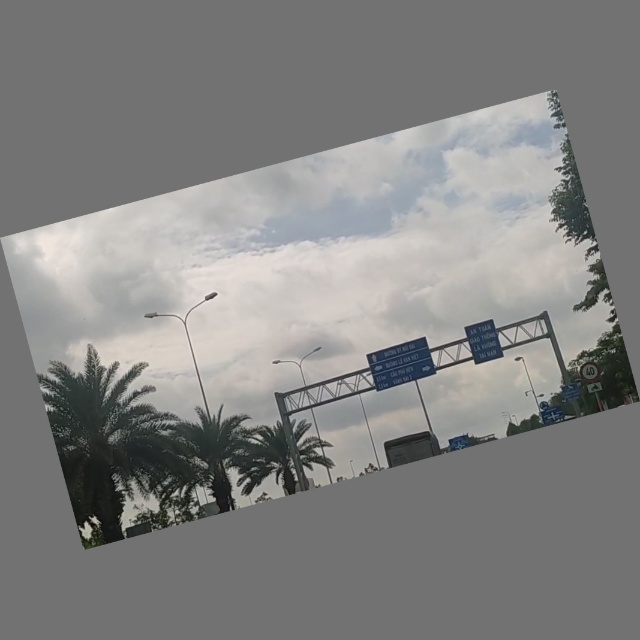P.127*40: (578, 360, 602, 385)
S.505a*Xe may: (584, 380, 605, 397)
